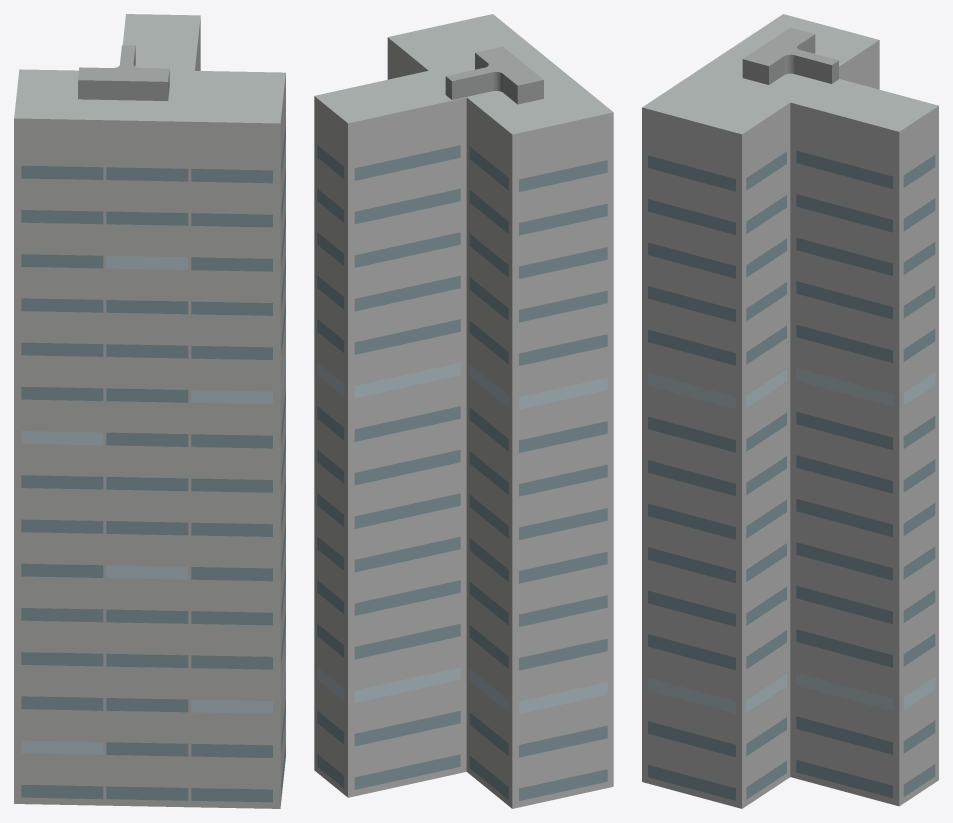
The model's file is fallback-prestige-112.glb.
3 views of the same model, side by side, from view 1: azimuth 30°, elevation 25°; view 2: azimuth 150°, elevation 25°; view 3: azimuth 270°, elevation 25° (orthographic).
Visible parts, largest first — view 1: fallback-prestige-112; view 2: fallback-prestige-112; view 3: fallback-prestige-112.
Boxes of the visible parts, <box> form: fallback-prestige-112: <box>14,14,285,808</box>; fallback-prestige-112: <box>314,14,613,808</box>; fallback-prestige-112: <box>642,14,938,808</box>.
Bounding box in the file's own units: 32.78 × 88 × 34.14.
